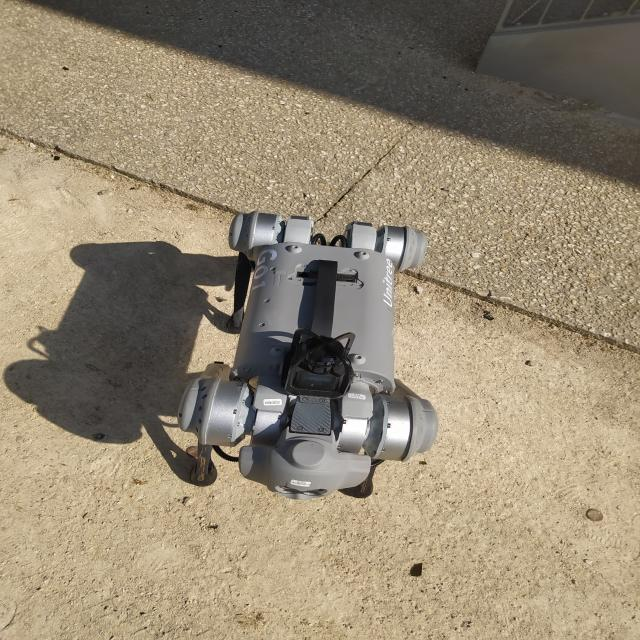unitree-go1-robot: (167, 201, 458, 516)
